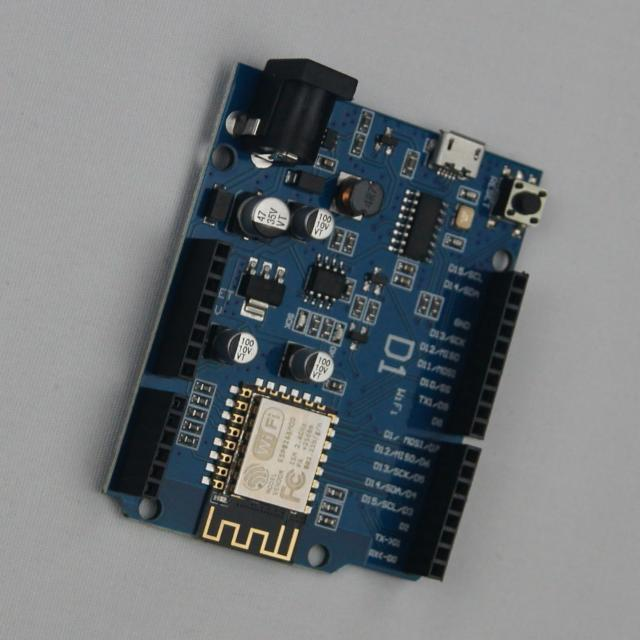Arduino Uno WiFi Shield: (105, 60, 547, 581)
